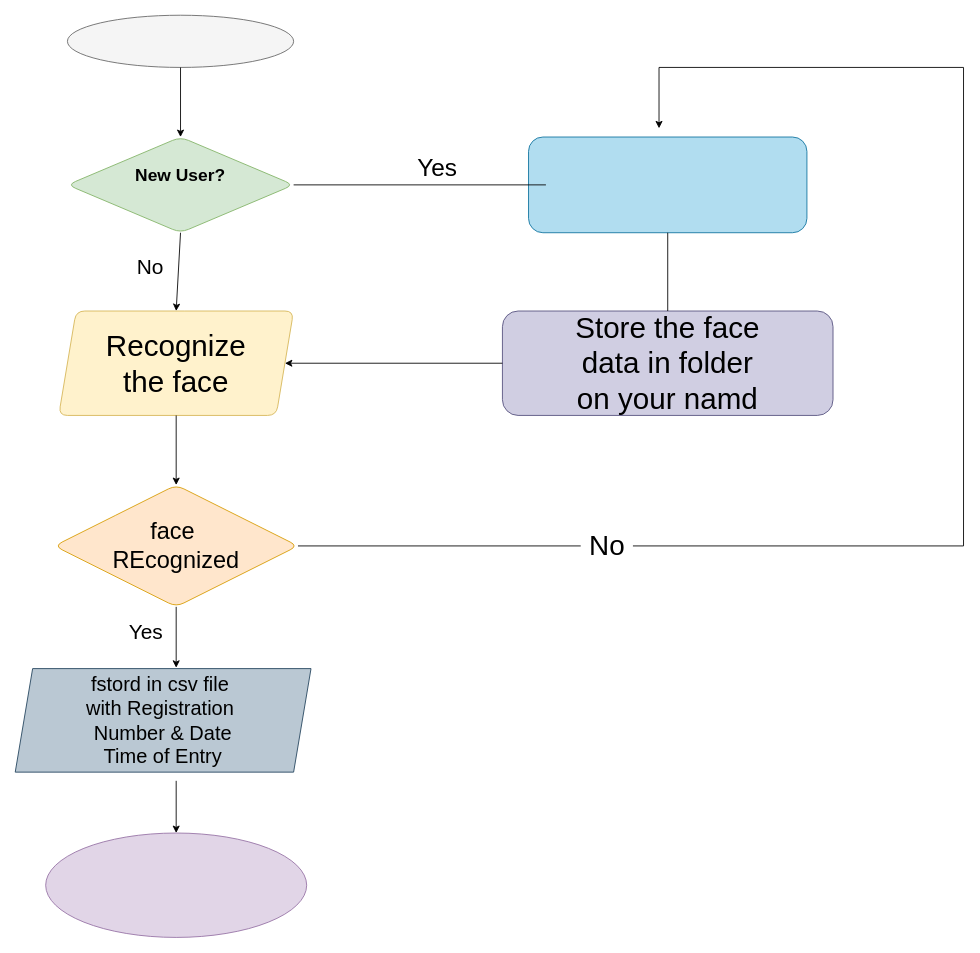
Image size: 980x953. Some labels were removed from this diagram. Here are the shapes that lost their labels. From the top down, the centre of each, then its label:
point (180, 40): Start
point (667, 184): your photograph
point (176, 884): End
